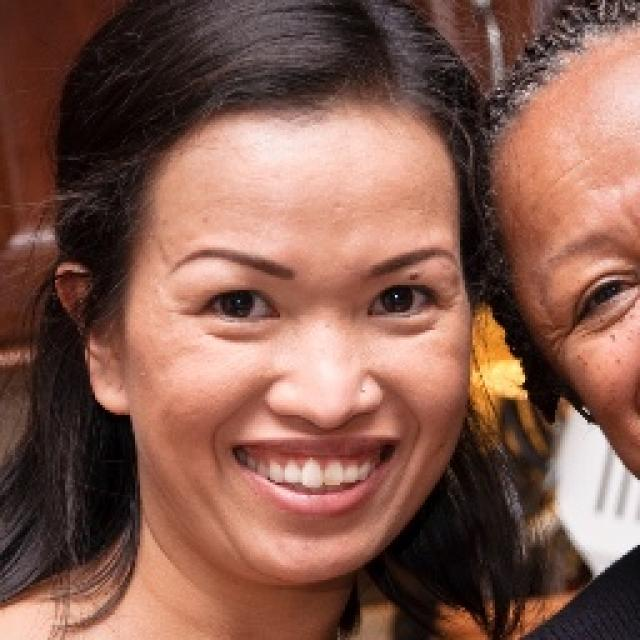earlobe: (52, 262, 130, 416)
